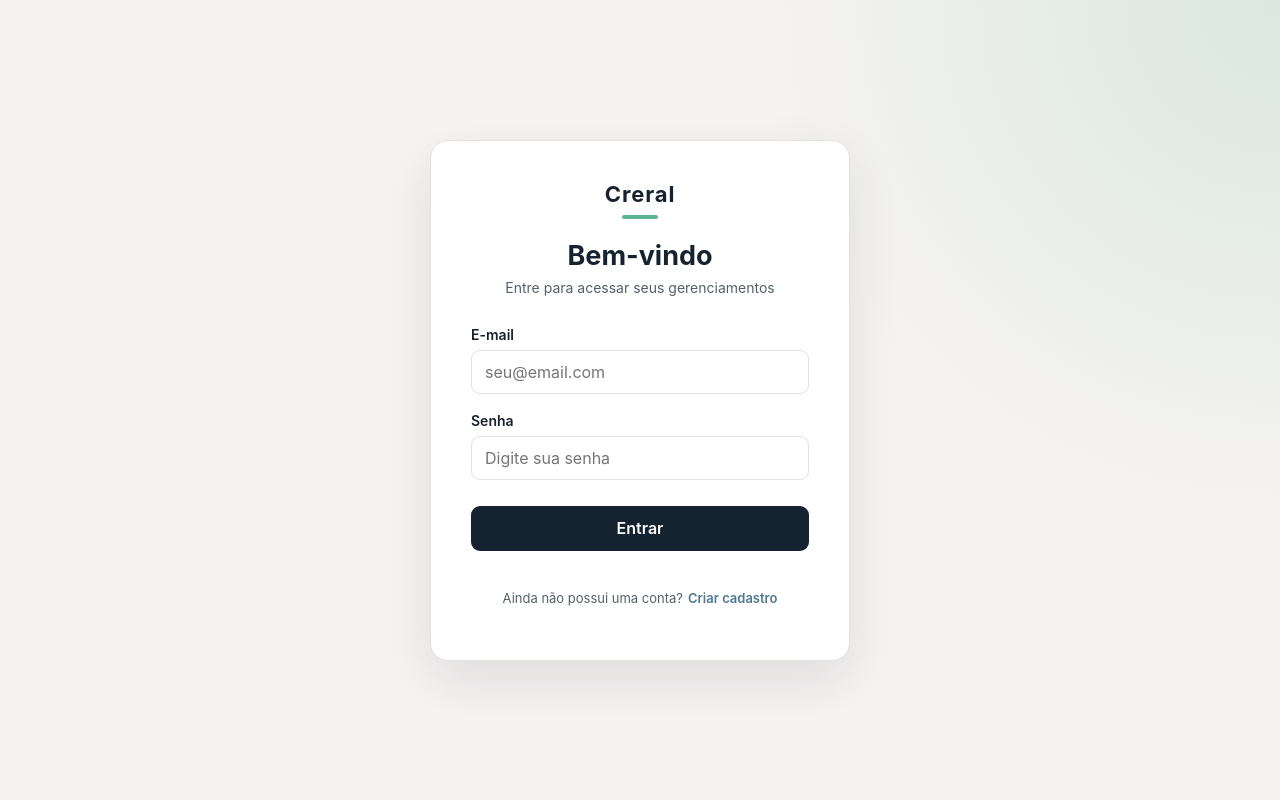
AUT-07/10: App abre a lista com a sessão do cadastro sem POST login adicional
Step 1. Click the button "Criar cadastro" → (733, 598), box [688,576,777,620]
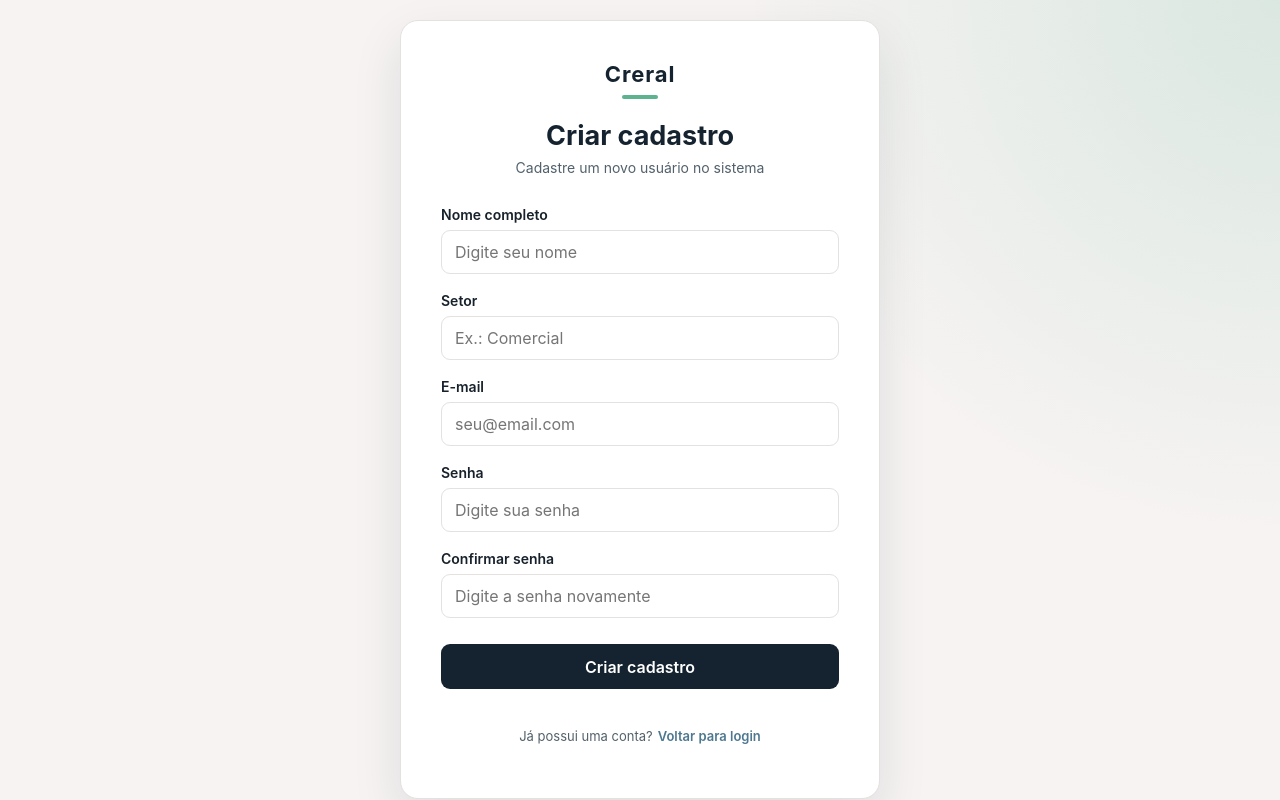
Step 2. Type " Nova " into the field labelled "Nome completo" → (640, 252), box [441,230,839,274]
Step 3. Type " Campo " into the field labelled "Setor" → (640, 338), box [441,316,839,360]
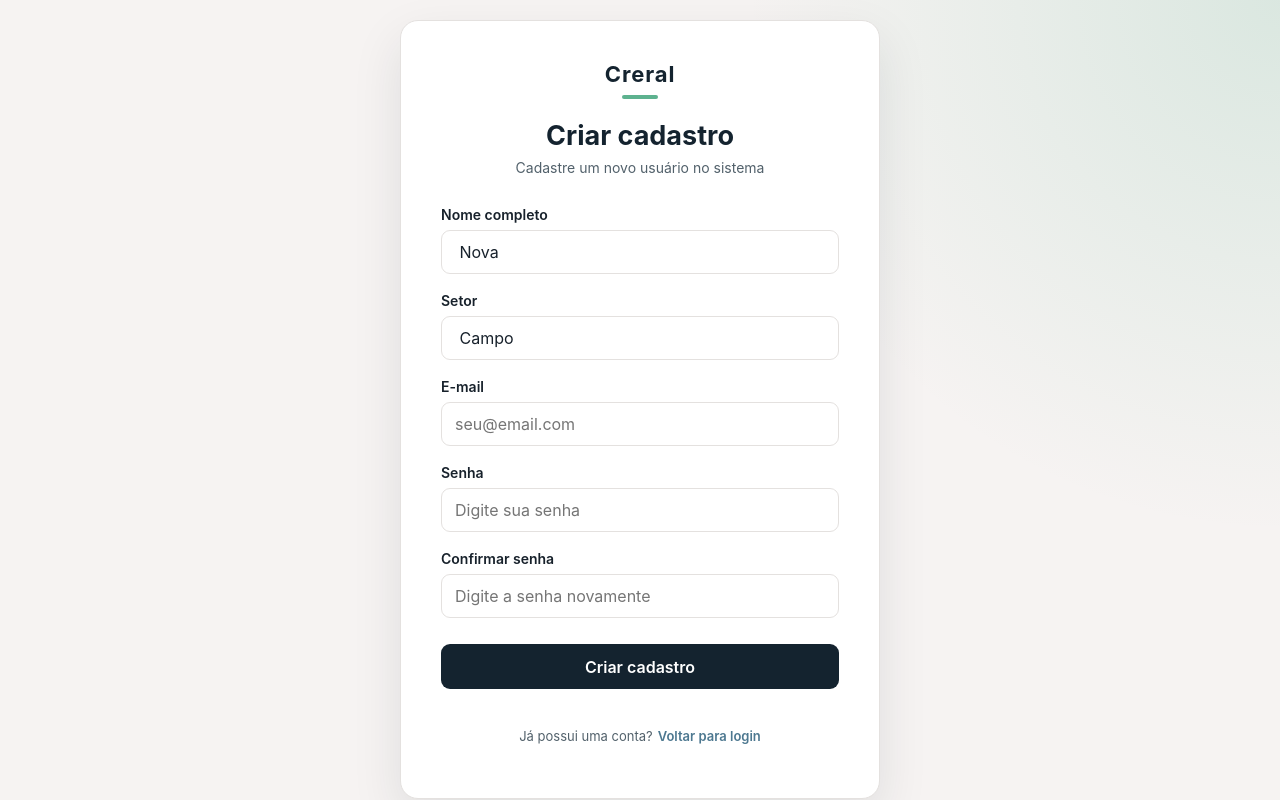
Step 4. Type "nova@example.test" into the field labelled "E-mail" → (640, 424), box [441,402,839,446]
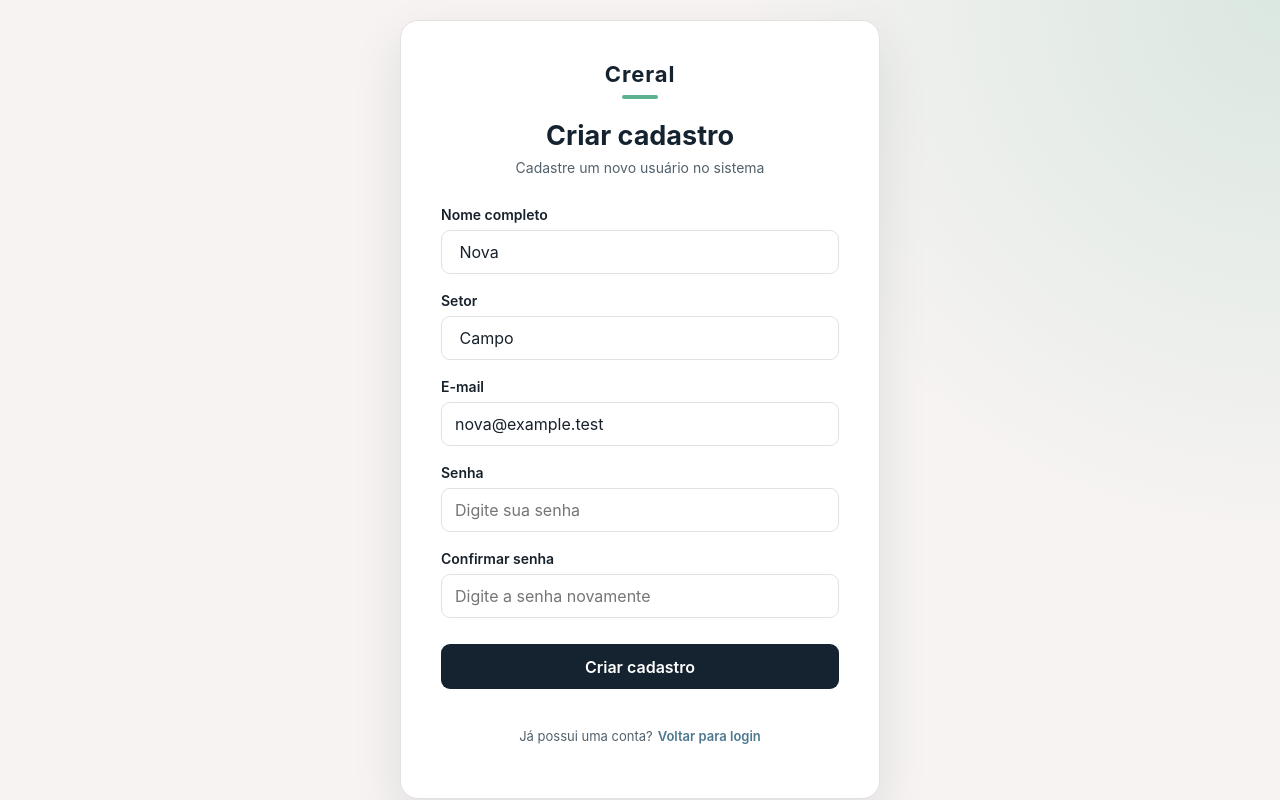
Step 5. Type "senha-ficticia" into the password field labelled "Senha" → (640, 510), box [441,488,839,532]
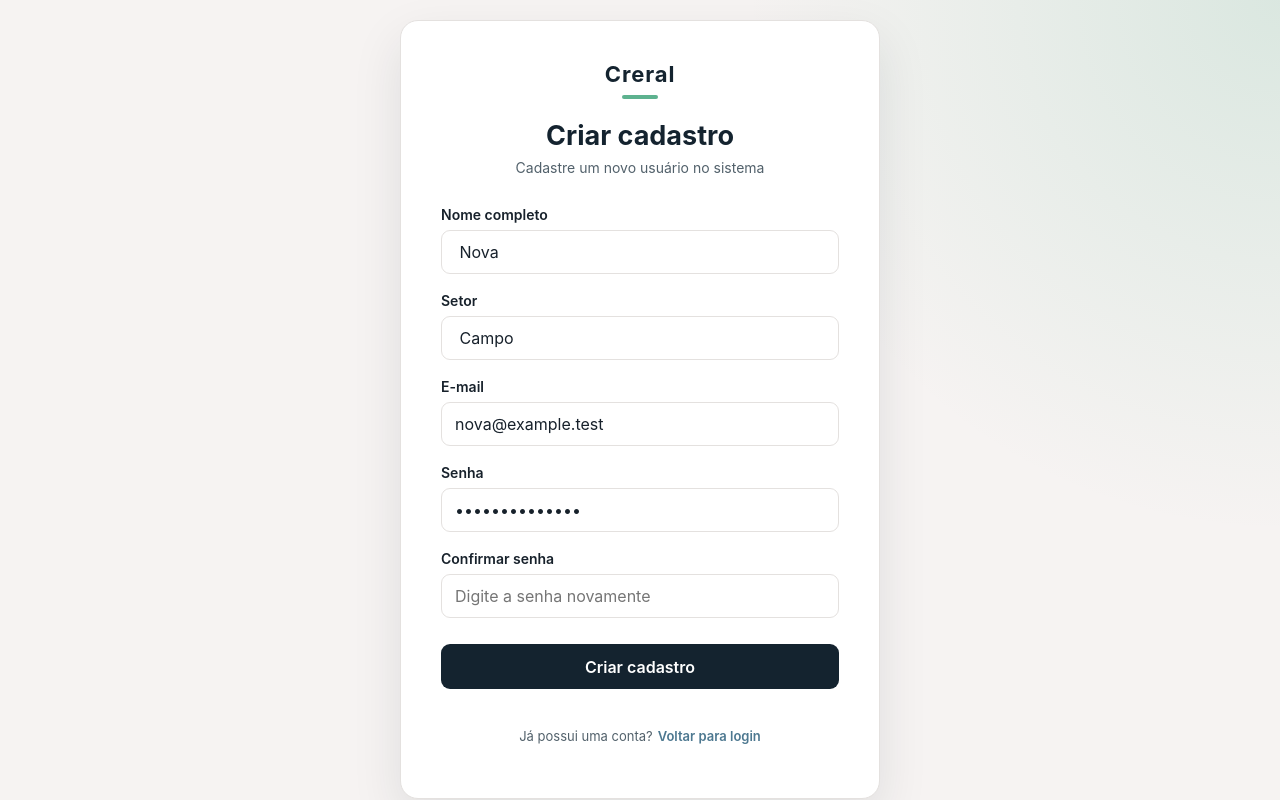
Step 6. Type "senha-ficticia" into the password field labelled "Confirmar senha" → (640, 596), box [441,574,839,618]
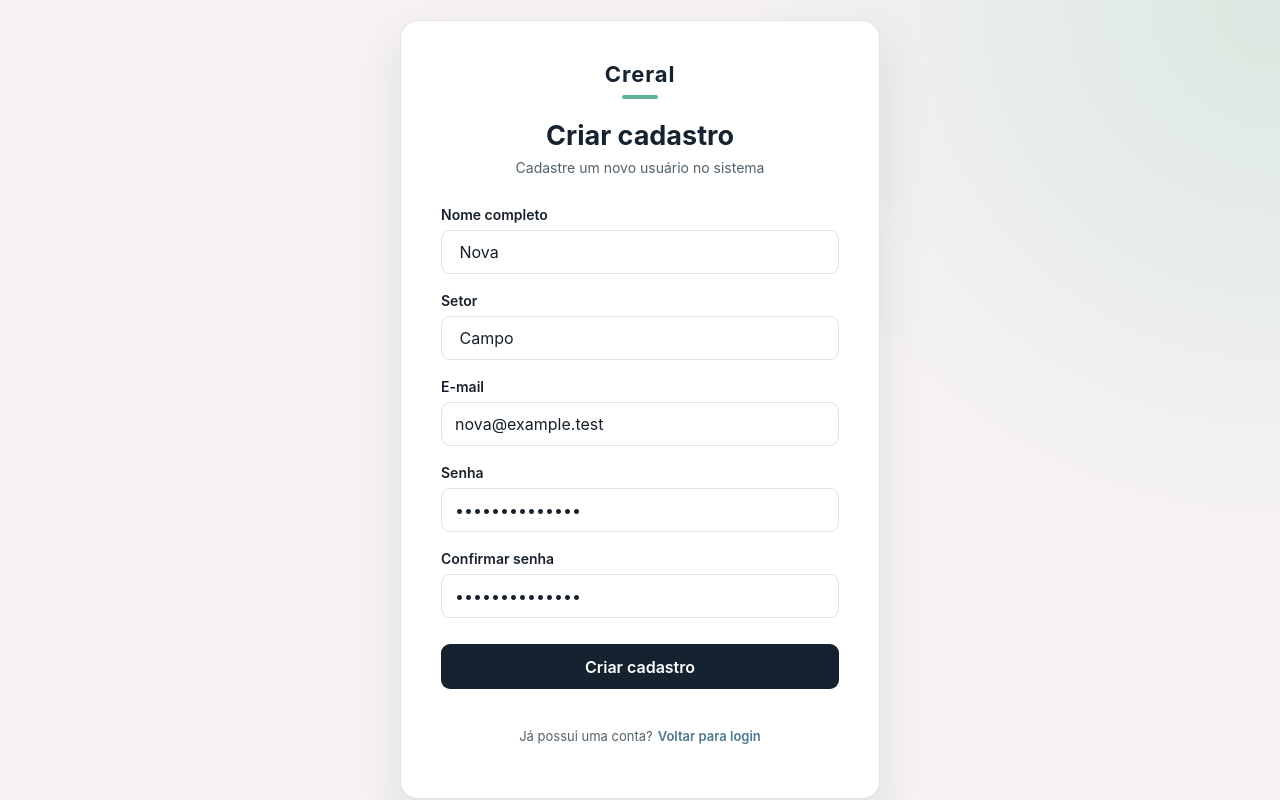
Step 7. Click the button "Criar cadastro" → (640, 666), box [441,644,839,689]
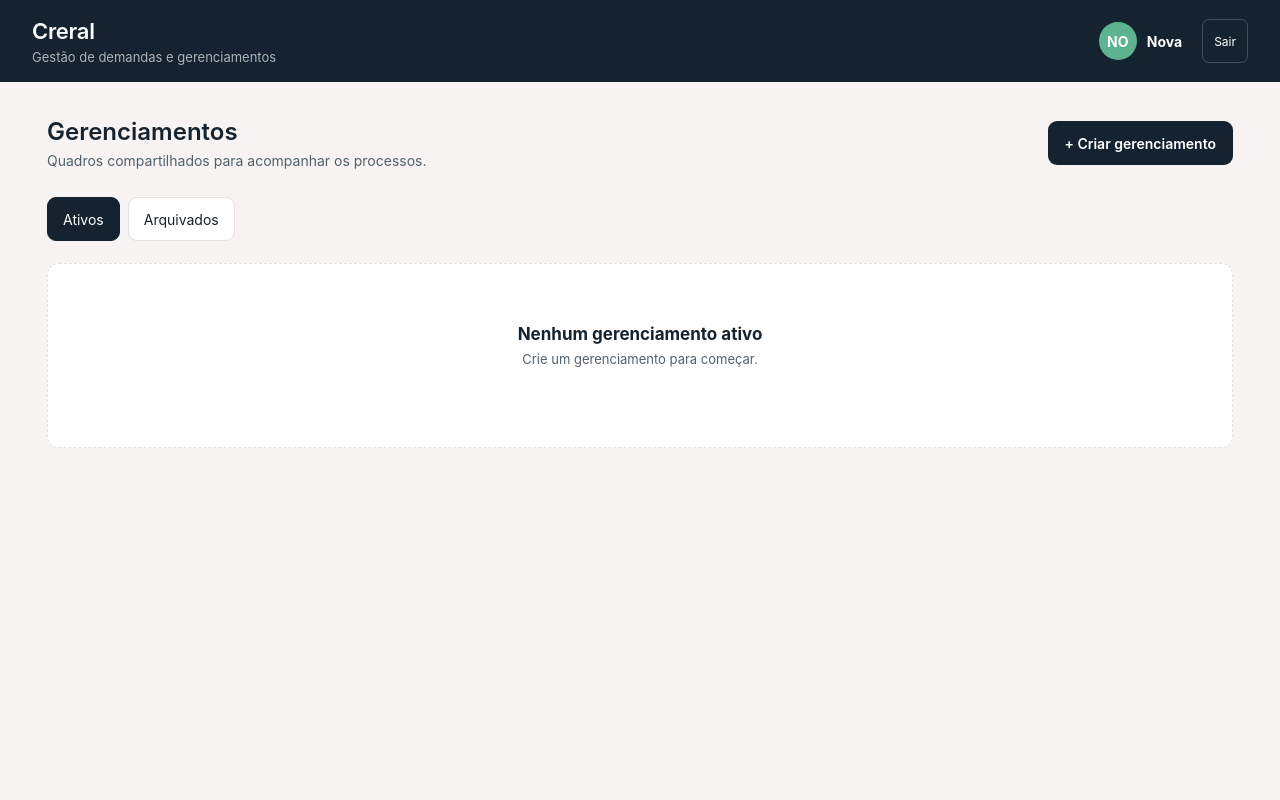
expect the heading "Gerenciamentos" is shown: met, box [47,117,238,146]
